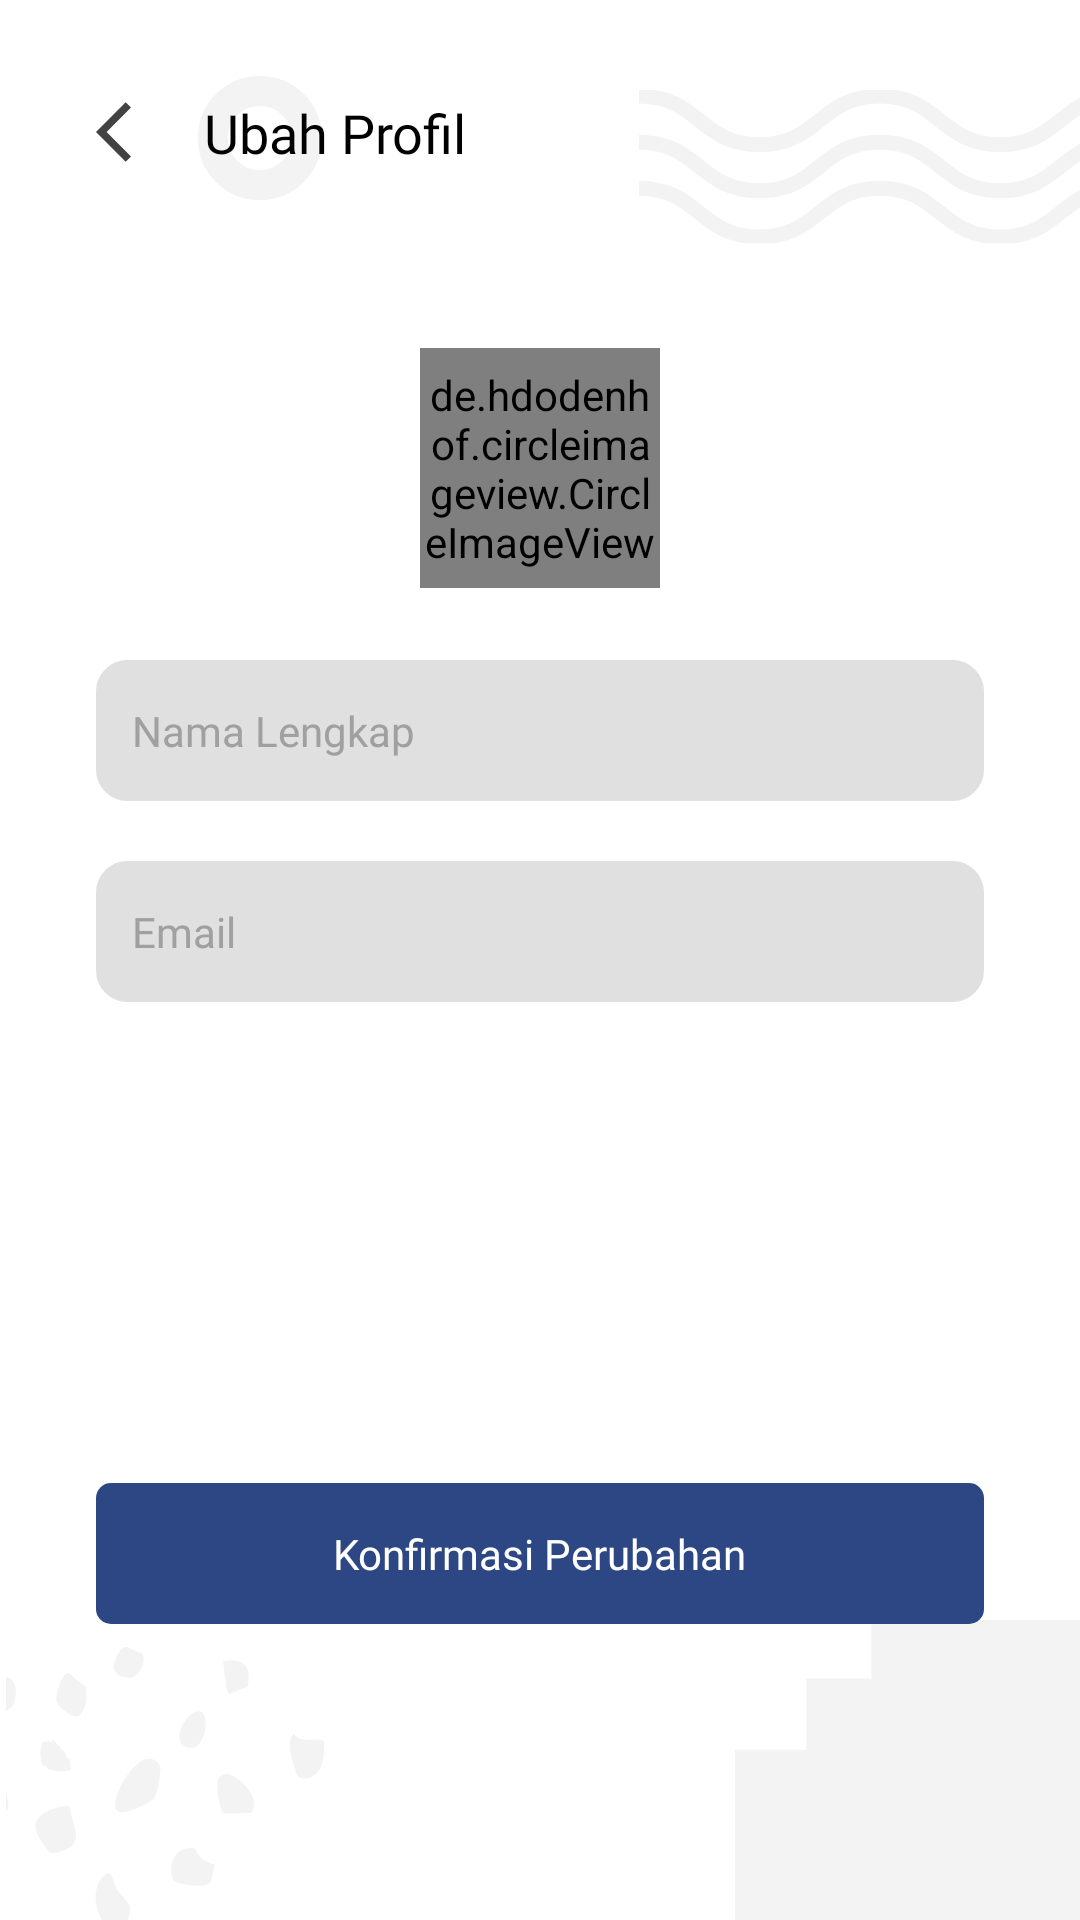

Icon click points for this 1080*1920 phone screenshot, format [x,y]:
back: [113,132]
